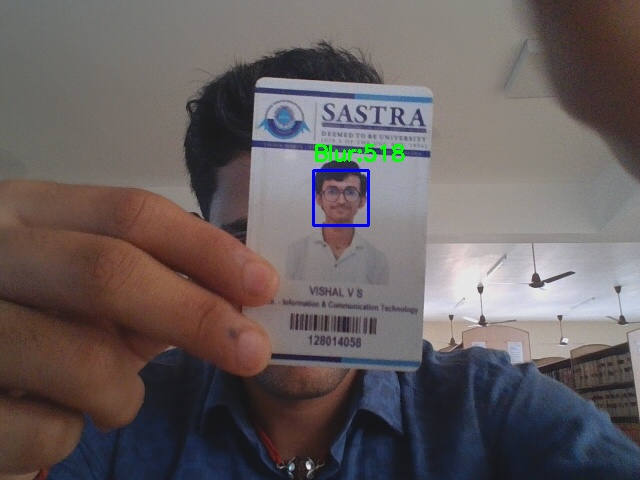fake: (313, 170, 368, 225)
